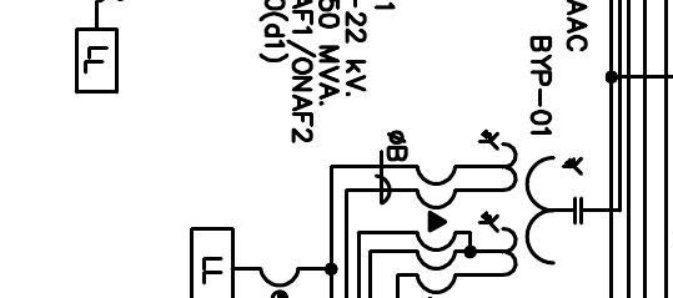115_cvt_3p: (477, 128, 584, 278)
LL: (74, 27, 119, 94)
